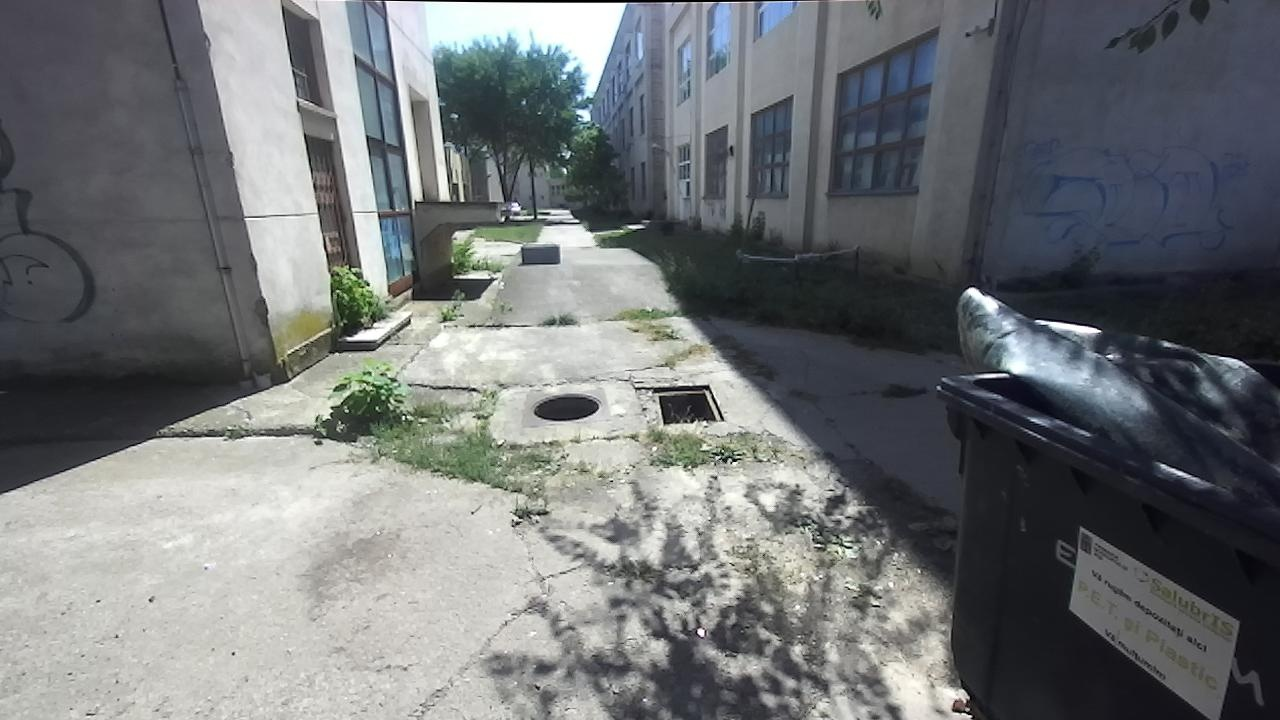drain: (649, 384, 728, 426), (529, 390, 609, 424)
